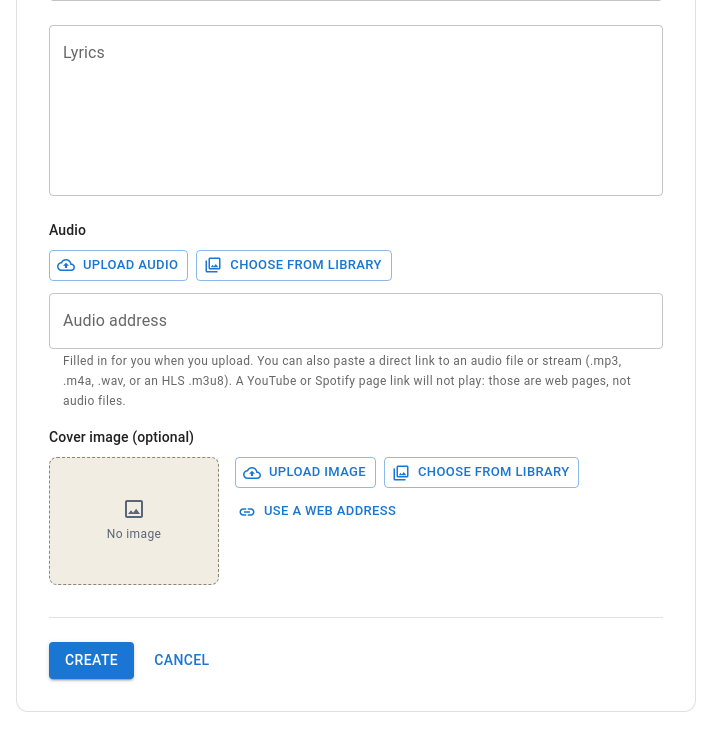
SongForm › shows validation errors and does not submit when required fields are empty
(page scrolled)
Click the button with test id "song-form-submit".
click(92, 661)  # box [49,642,134,679]
(page scrolled)
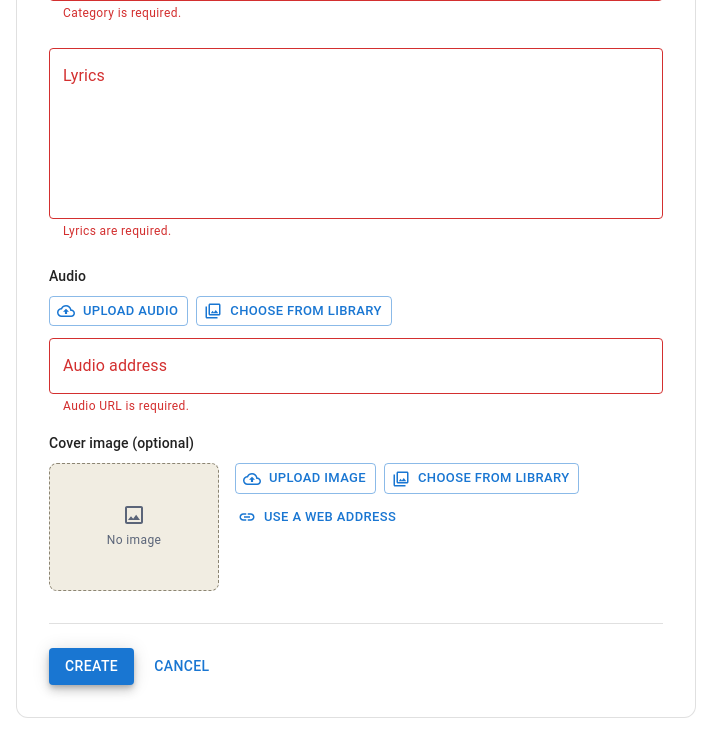
Expected: the text "Category is required." is shown, [63,6,182,20]
Expected: the text "Lyrics are required." is shown, [63,224,172,238]
Expected: the text "Audio URL is required." is shown, [63,399,189,413]
